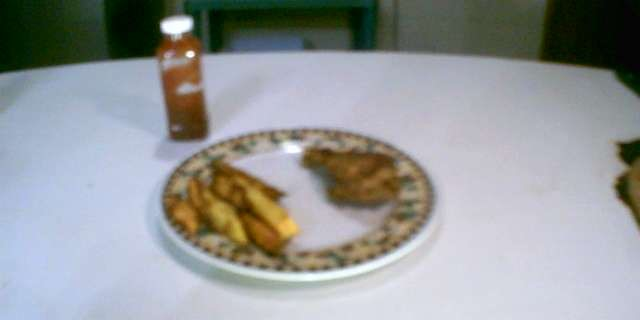chicken: (292, 129, 405, 214)
ketchup_bottle: (147, 5, 217, 146)
potatoe_fries: (168, 158, 299, 261)
